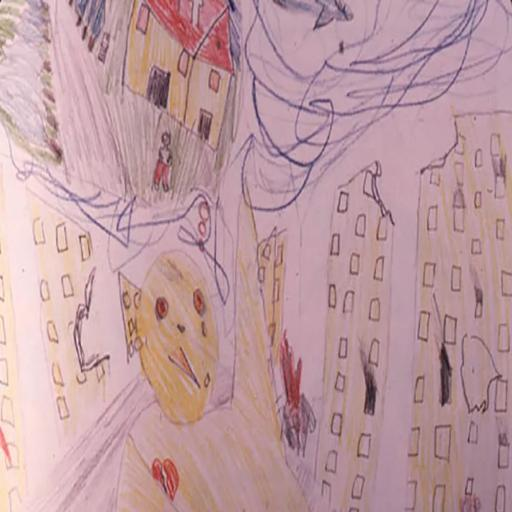person: (150, 132, 188, 206)
